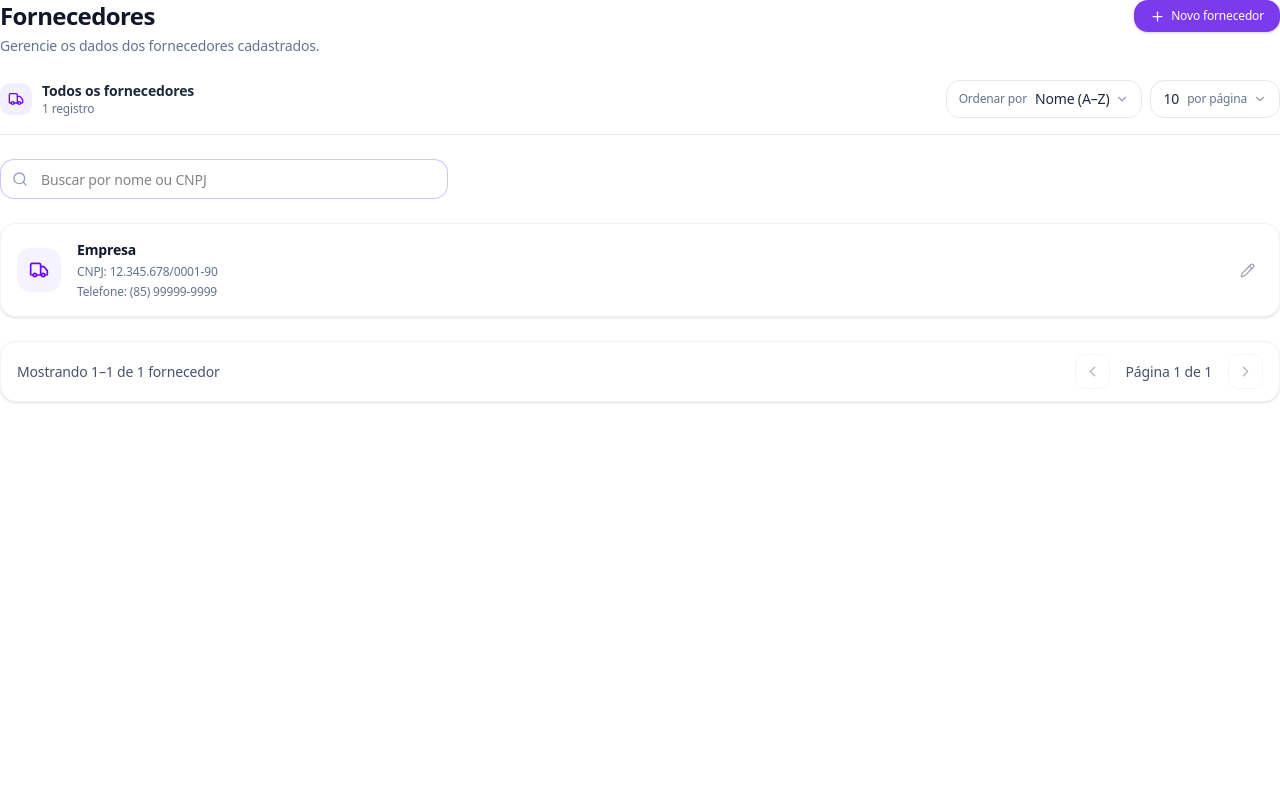
it: Fornecedores › carrega os detalhes antes de editar e mantém o telefone da listagem
Click the button named "Editar fornecedor Empresa".
click(1248, 270)  # box 1232,254 -> 1263,286
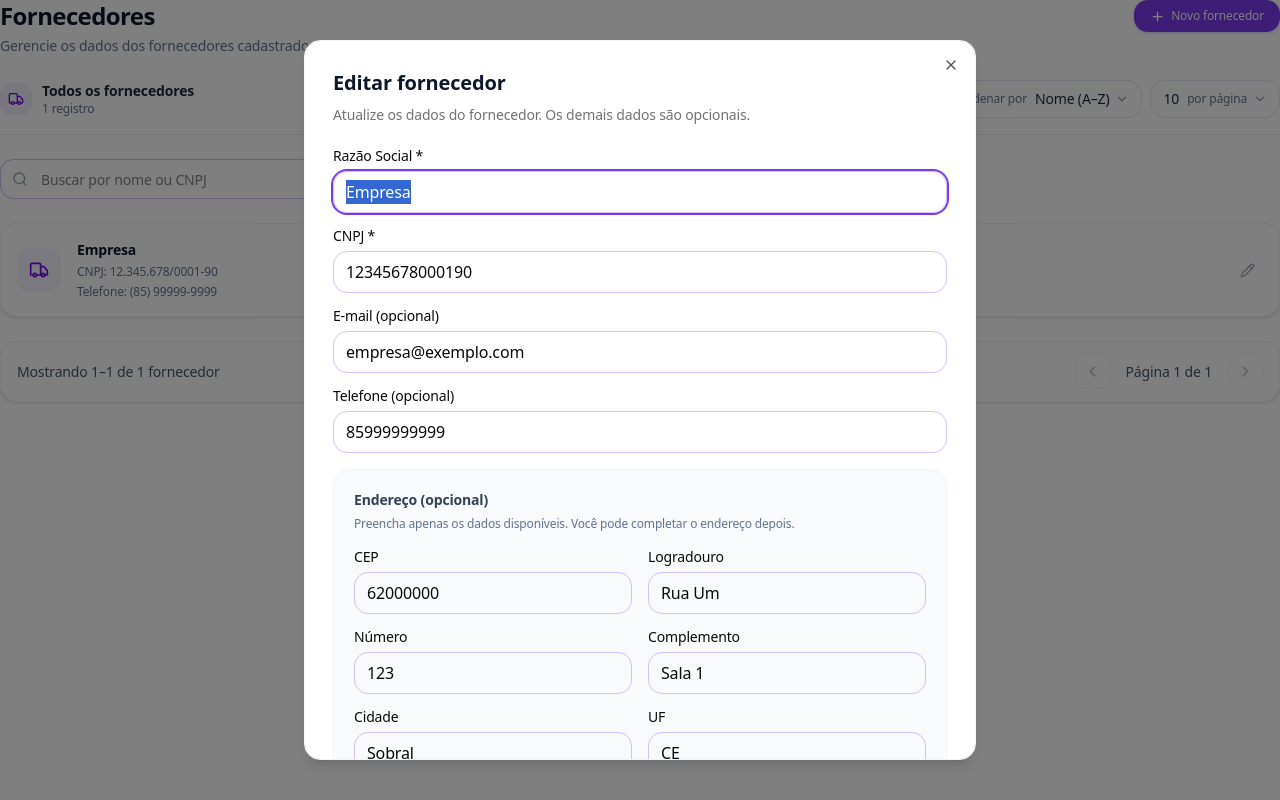
Now the field showing "empresa@exemplo.com" is shown, box 333,331 -> 947,373
Now the field showing "Rua Um" is shown, box 648,572 -> 926,614
Now the field showing "85999999999" is shown, box 333,411 -> 947,453
